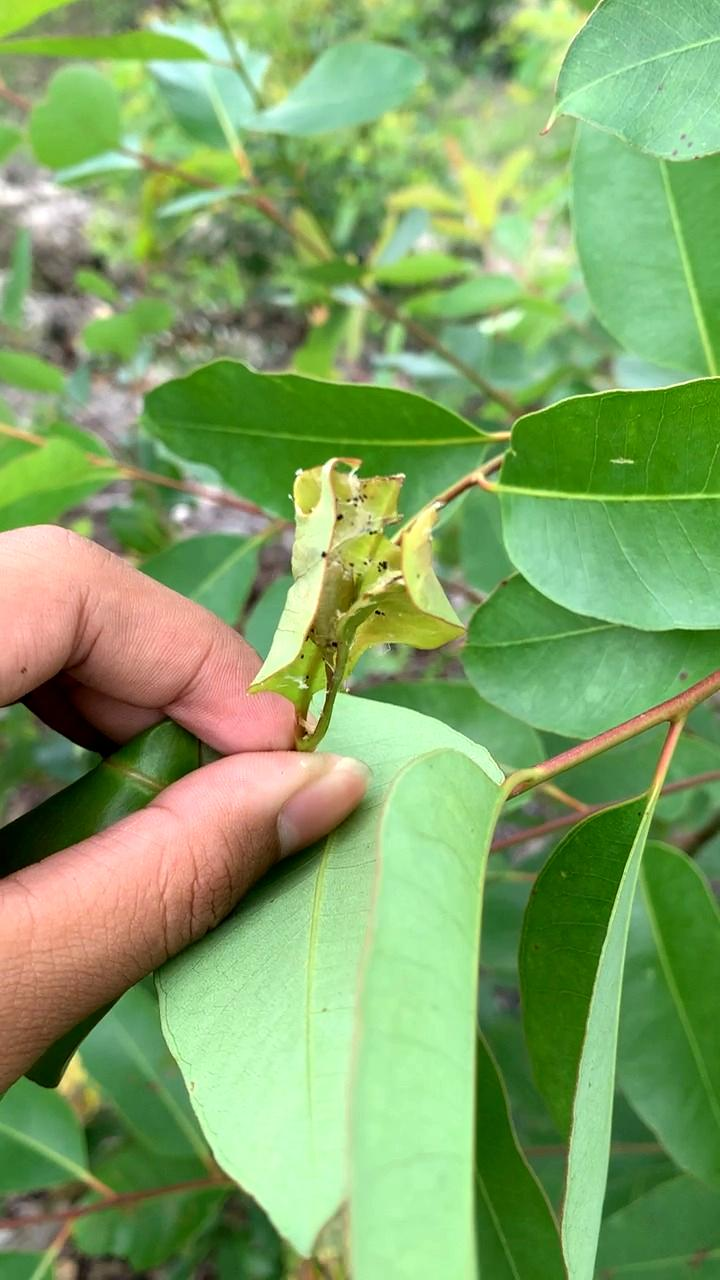Leaf Roller - Leaf: (256, 456, 461, 713)
